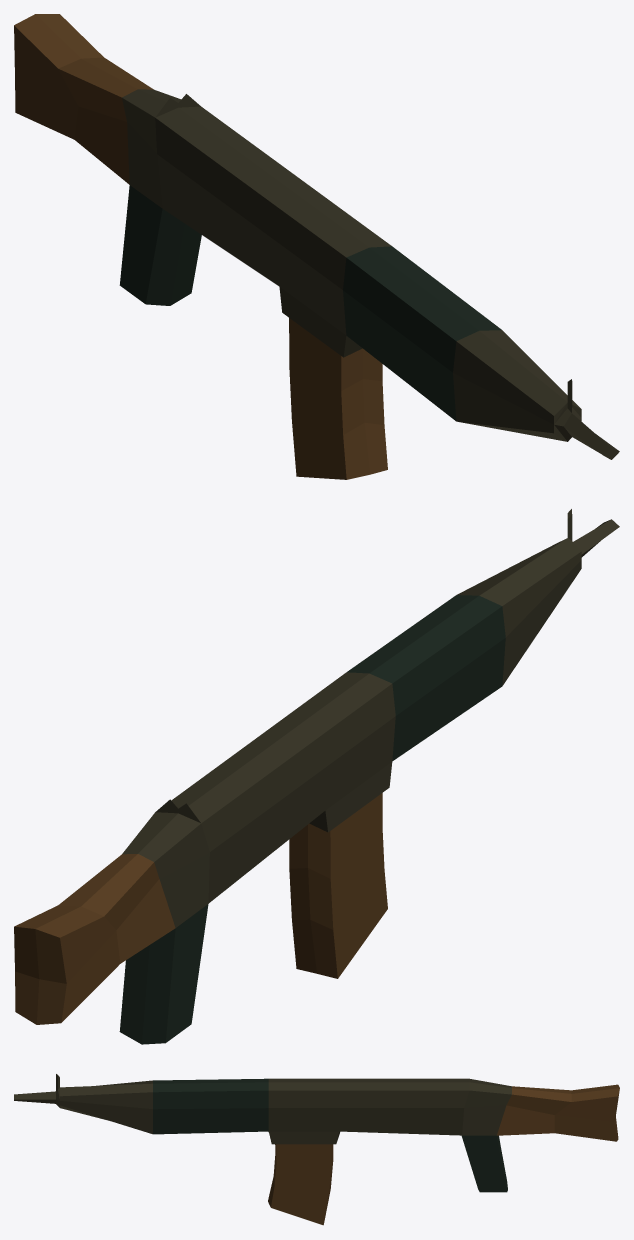
Rendered from Terrorist Rifle 1_1.fbx.
3 renders of one model, top to bottom at view 1: azimuth 30°, elevation 25°; view 2: azimuth 150°, elevation 25°; view 3: azimuth 270°, elevation 25°, orthographic. The views are drawn at different scales.
Visible parts, largest first — view 1: TerroristRifle_1, TR_Magazine; view 2: TerroristRifle_1, TR_Magazine; view 3: TerroristRifle_1, TR_Magazine.
Part boxes in pixels (x1=…): TerroristRifle_1: x1=14, y1=14, x2=619, y2=459; TR_Magazine: x1=289, y1=318, x2=387, y2=479; TerroristRifle_1: x1=14, y1=509, x2=619, y2=1044; TR_Magazine: x1=289, y1=793, x2=387, y2=978; TerroristRifle_1: x1=14, y1=1074, x2=619, y2=1192; TR_Magazine: x1=268, y1=1144, x2=333, y2=1225.
Bounding box in the file's own units: 22.97 × 116 × 434.
